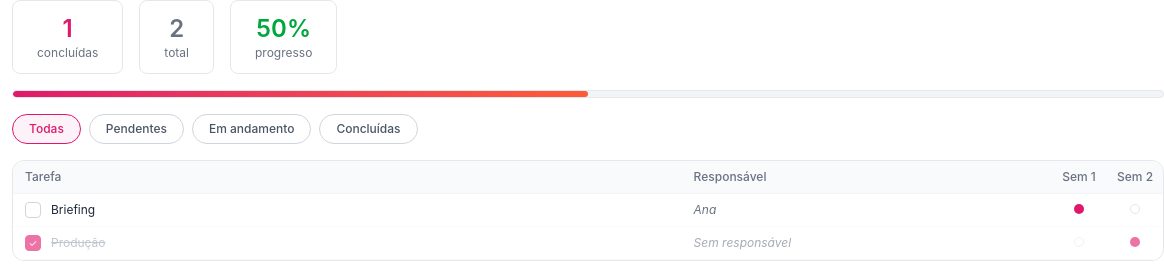
Scenario: TaskChecklistGantt › filters to only pending tasks when the "Pendentes" pill is clicked
Click the button "Pendentes" at (136, 129), box [89,114,184,144]
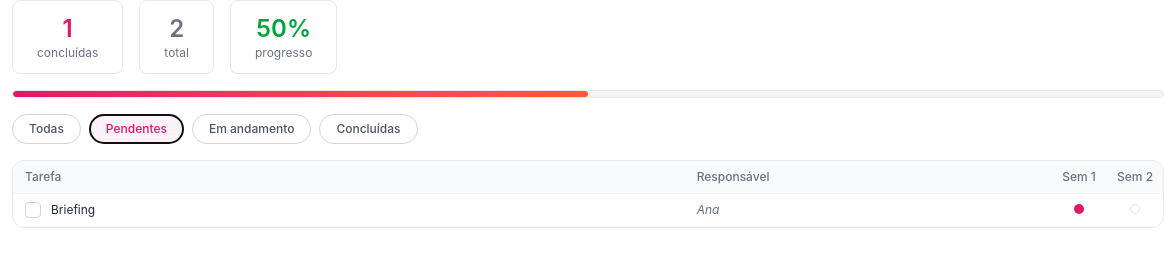
Expected: the text "Briefing" is shown, [51,202,95,218]
Now the text "Produção" is gone
